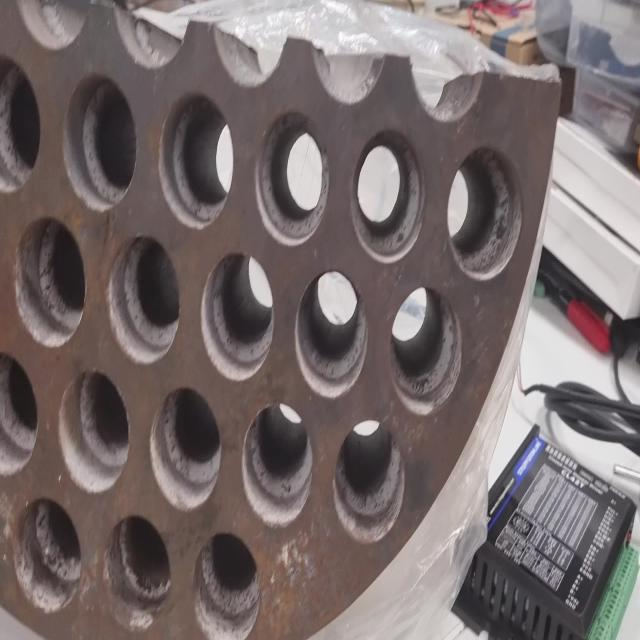Hole: (446, 144, 523, 280), (254, 109, 330, 246), (159, 90, 233, 230), (62, 74, 137, 211), (351, 126, 425, 264), (106, 233, 181, 364), (13, 214, 86, 348), (294, 267, 368, 399), (200, 250, 273, 382), (390, 284, 462, 415), (57, 367, 130, 493), (332, 419, 406, 543), (150, 385, 222, 511), (242, 402, 314, 527), (102, 512, 172, 632), (14, 493, 82, 612), (194, 530, 261, 640), (0, 54, 41, 194), (0, 349, 39, 476)
